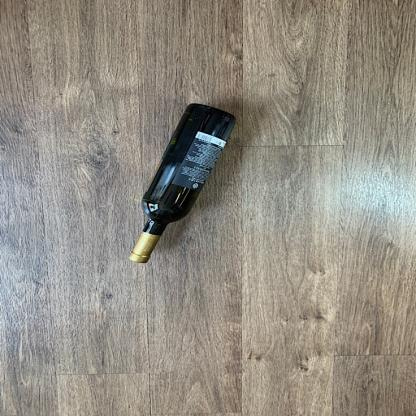trash: (128, 103, 238, 264)
